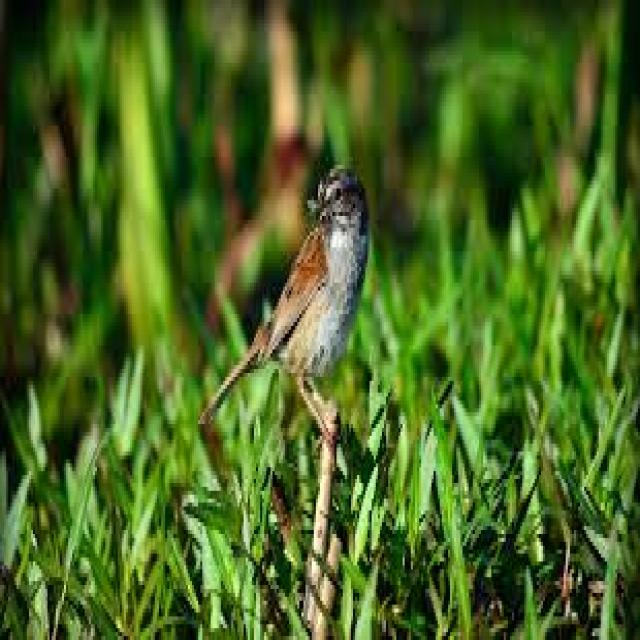bird: (198, 158, 372, 446)
